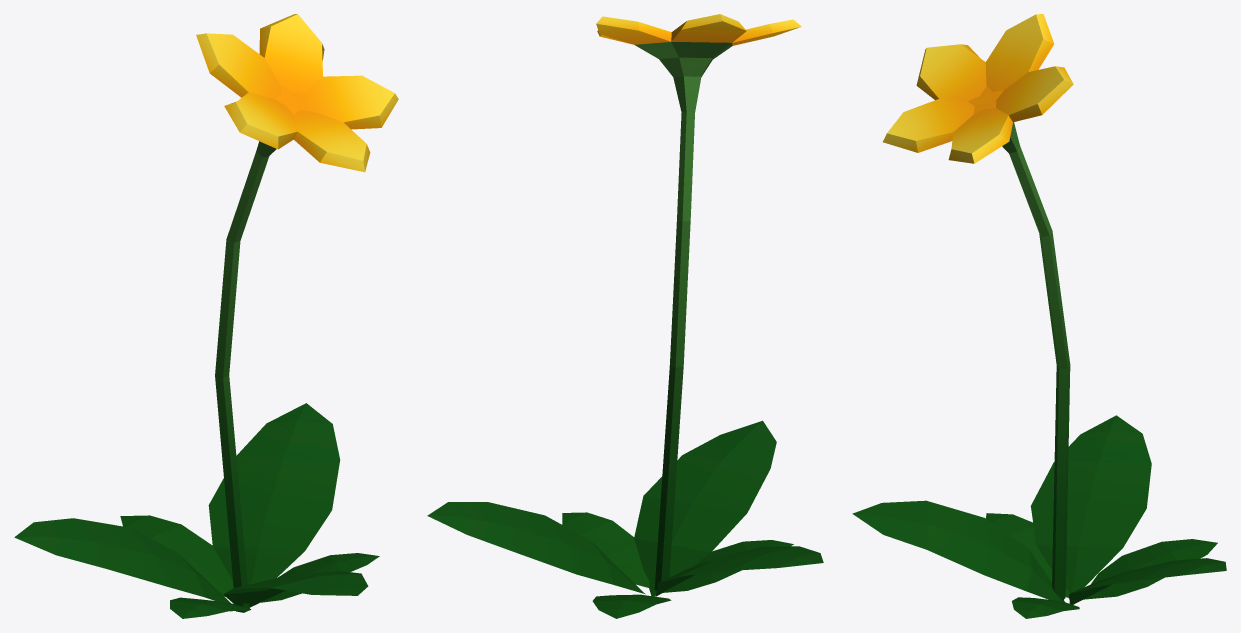
The model's file is Flower_yellow_03.fbx.
The picture shows the model from 3 angles, left to right: view 1: azimuth 30°, elevation 25°; view 2: azimuth 150°, elevation 25°; view 3: azimuth 270°, elevation 25°; orthographic projection. The views are drawn at different scales.
Visible parts, largest first — view 1: Flower_yellow_03; view 2: Flower_yellow_03; view 3: Flower_yellow_03.
Boxes of the visible parts, box(x1,y1,x2,y2) form: Flower_yellow_03: box(14, 14, 398, 618); Flower_yellow_03: box(427, 14, 823, 618); Flower_yellow_03: box(852, 14, 1226, 618).
Bounding box in the file's own units: 29.76 × 48.6 × 29.03.
